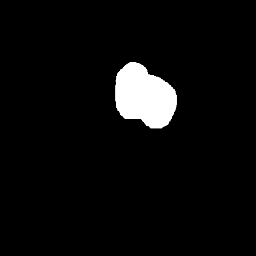mass: (117, 62, 175, 114)
